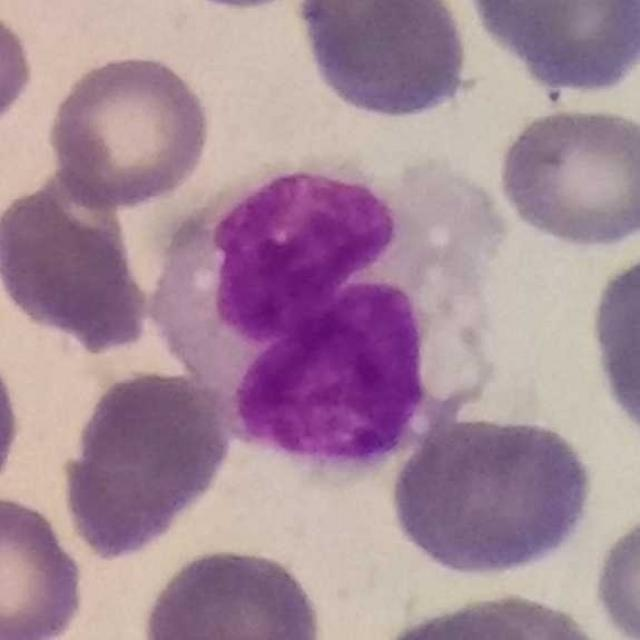Monocyte: (144, 154, 519, 476)
RBC: (385, 410, 601, 583), (56, 364, 236, 565), (42, 48, 216, 210), (0, 176, 154, 357), (292, 0, 480, 128), (493, 101, 640, 254), (457, 0, 640, 106), (136, 540, 329, 640), (362, 584, 618, 640), (0, 489, 90, 640), (583, 234, 640, 461), (589, 506, 640, 640), (0, 5, 39, 139), (0, 334, 26, 504)
